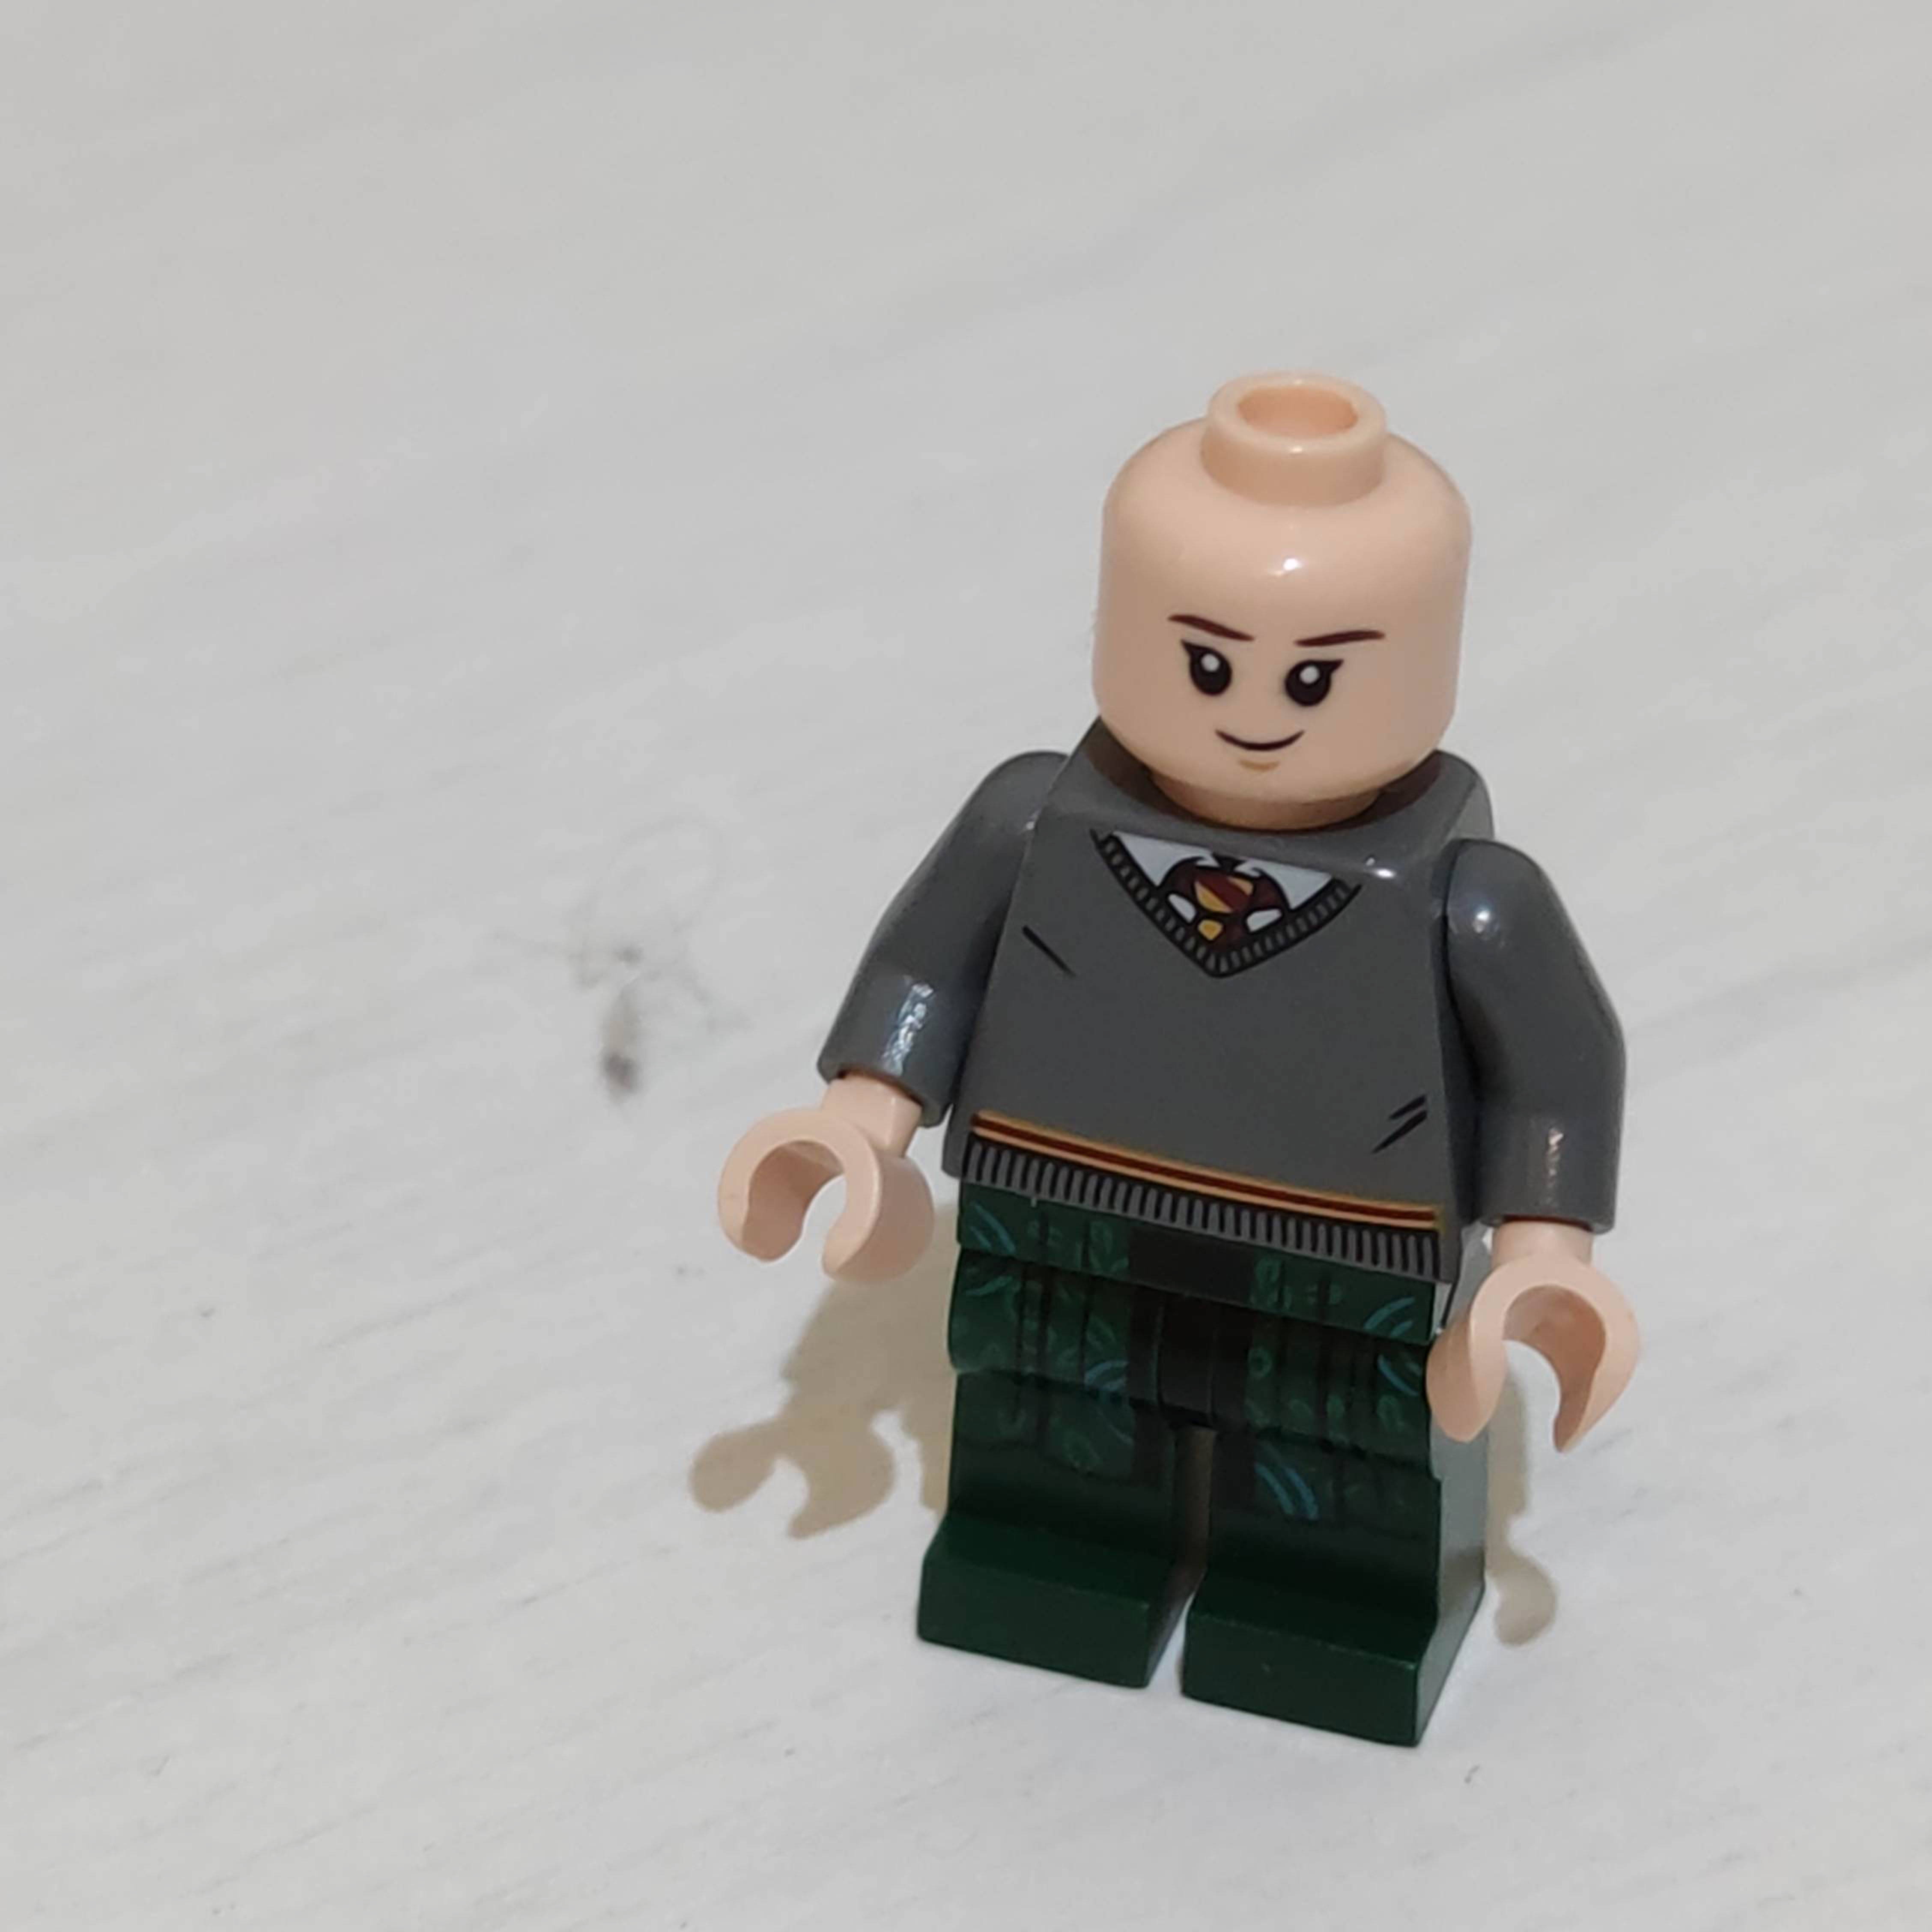lego: (715, 370, 1642, 1750)
